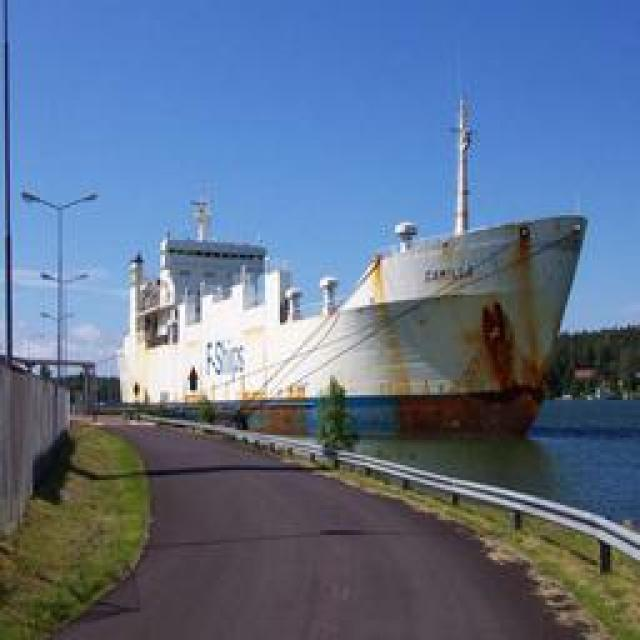ship2: (117, 82, 590, 442)
